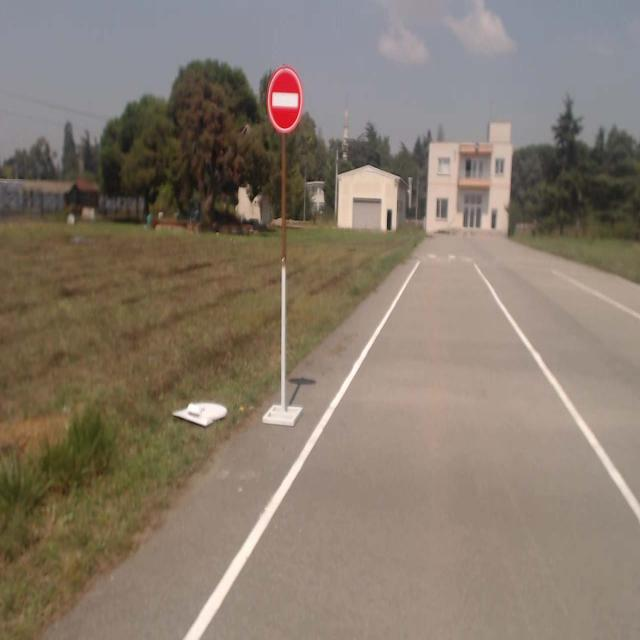girisyok: (267, 66, 303, 134)
